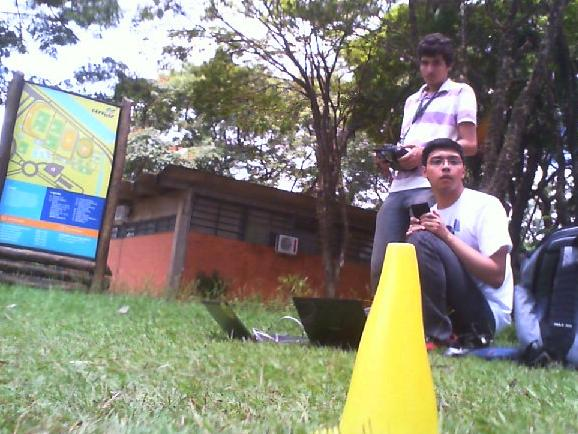0 cone: (305, 242, 442, 434)
